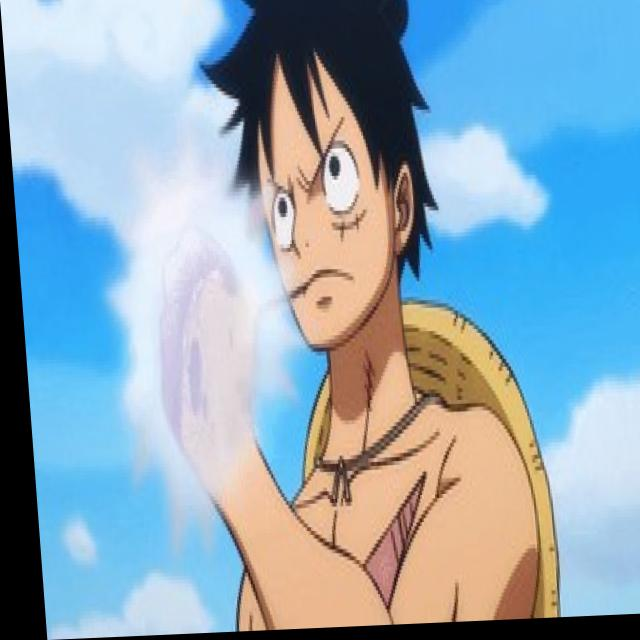Luffy: (205, 0, 429, 342)
